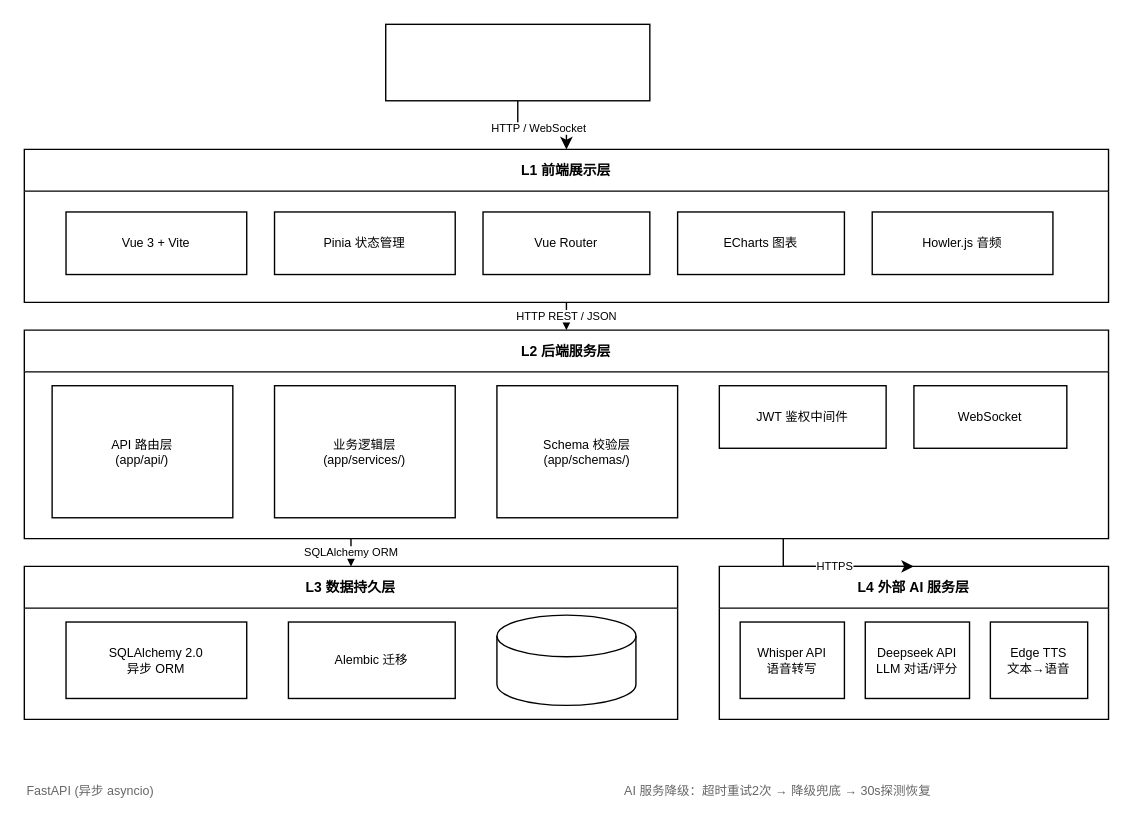
Some shapes in this 1133 by 827 pixel diagram are drawn without their labels. Each missing label, with the centre of its shape:
"MySQL 8.0 InnoDB" goes at (566,659).
"浏览器 (Chrome / Edge / Safari)" goes at (517,62).
